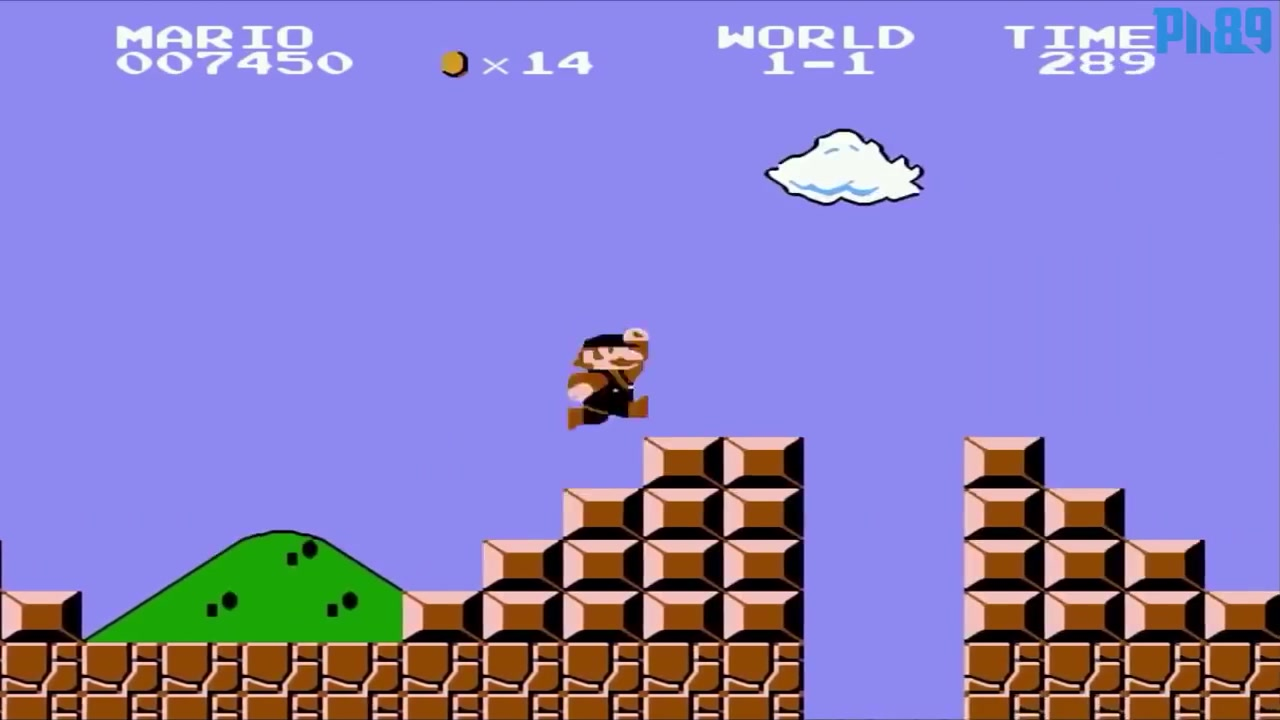mario: (555, 322, 663, 434)
